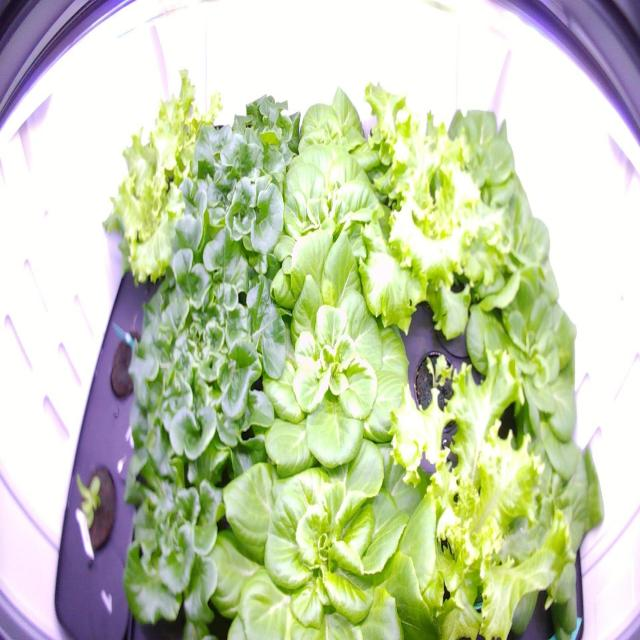pod: (103, 322, 152, 405)
young: (180, 403, 454, 637), (237, 220, 415, 481), (470, 408, 609, 639), (448, 268, 582, 466), (438, 165, 562, 314), (268, 139, 392, 271), (425, 98, 516, 223), (284, 81, 388, 185), (68, 456, 120, 565)
